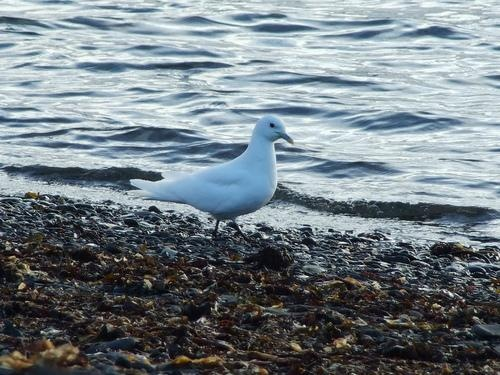bird: (128, 114, 297, 226)
